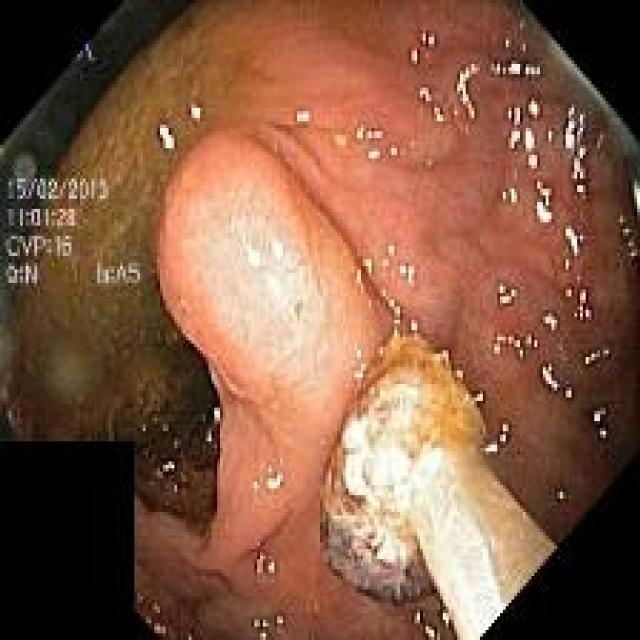Polyps: (159, 125, 391, 573)
